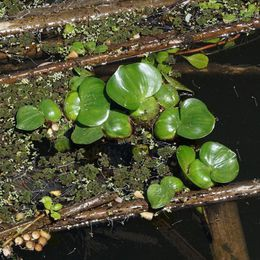water_hyacinth: (9, 41, 241, 213)
